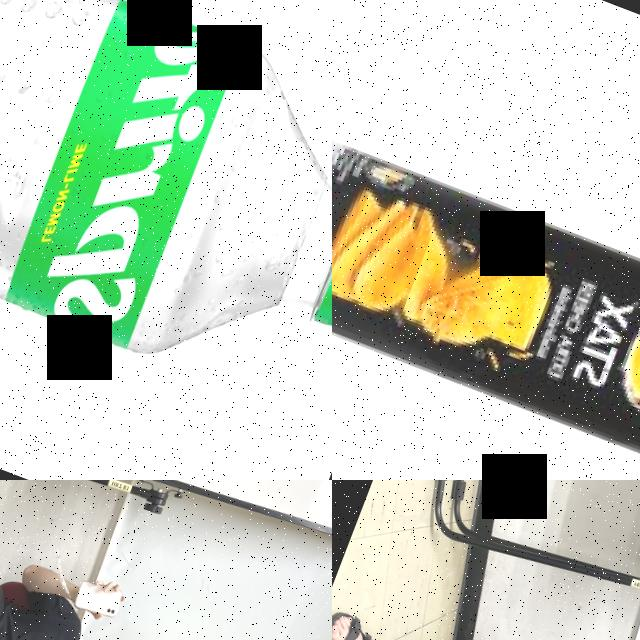bottle: (0, 0, 332, 430)
